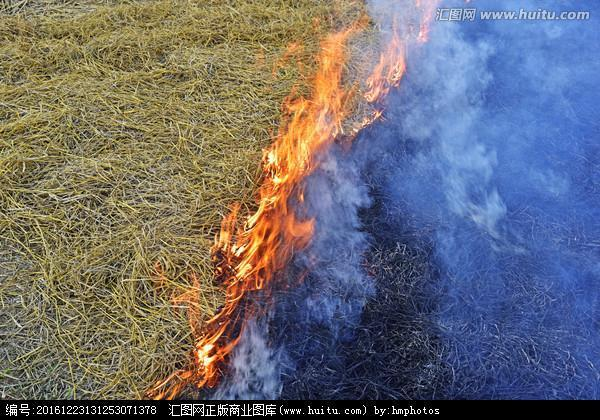fire: (138, 0, 443, 395)
